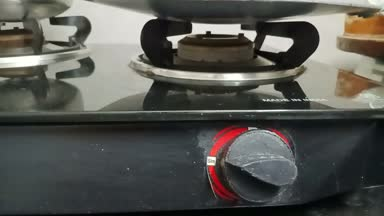noflame_gason: (129, 11, 335, 207)
